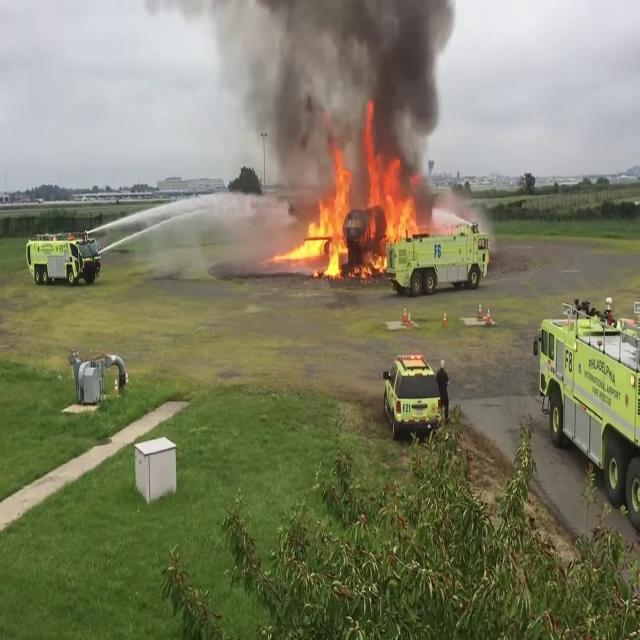Fire: (283, 142, 429, 280)
Smoke: (236, 0, 462, 174)
